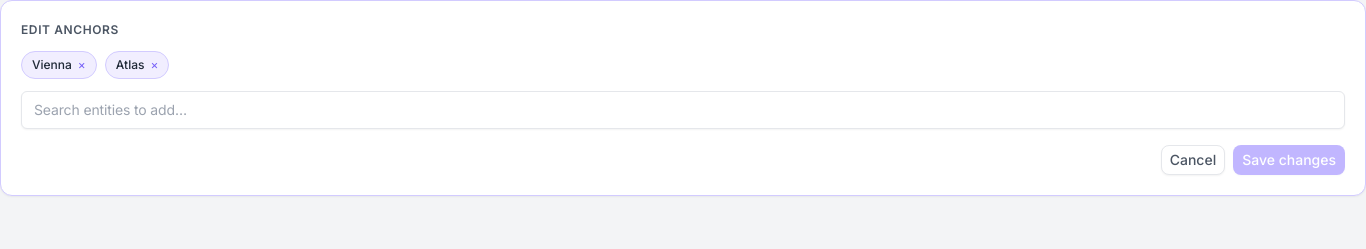
Scenario: StorylineAnchorEditor › clicking Save opens the confirm step instead of saving
Click the button with test id "anchor-editor-remove-514": (154, 65) left=150, top=59, right=158, bottom=71
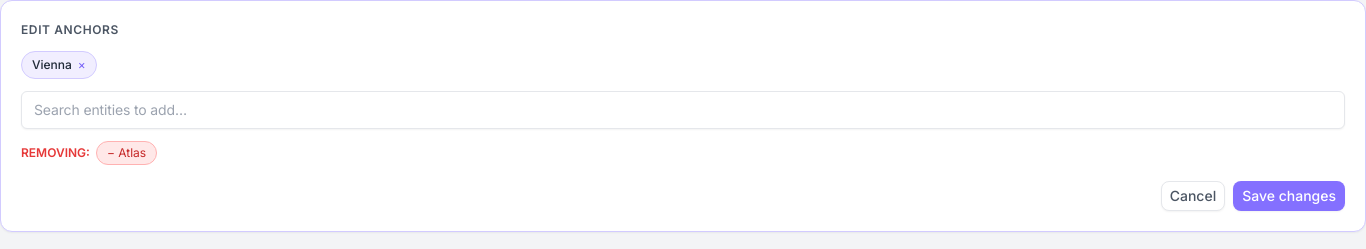
Click the button with test id "anchor-editor-save": (1289, 196) left=1233, top=181, right=1345, bottom=211
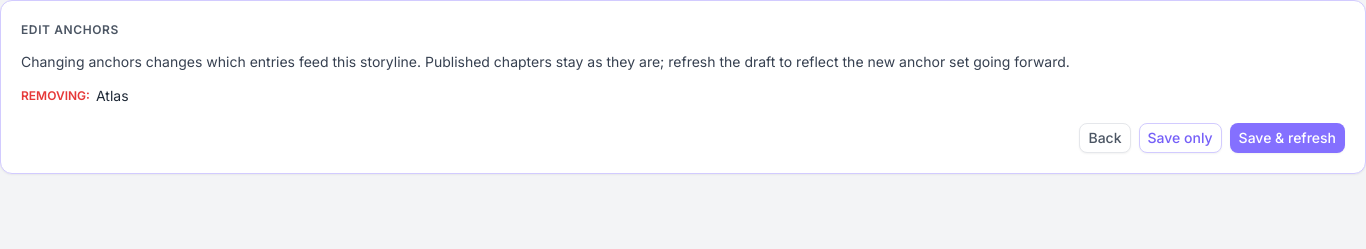
Expected: the element with test id "anchor-editor-confirm" shows "refresh the draft", left=21, top=53, right=1070, bottom=70
Expected: the button with test id "anchor-confirm-save-only" is shown, left=1138, top=123, right=1222, bottom=153
Expected: the button with test id "anchor-confirm-save-refresh" is shown, left=1230, top=123, right=1345, bottom=153
